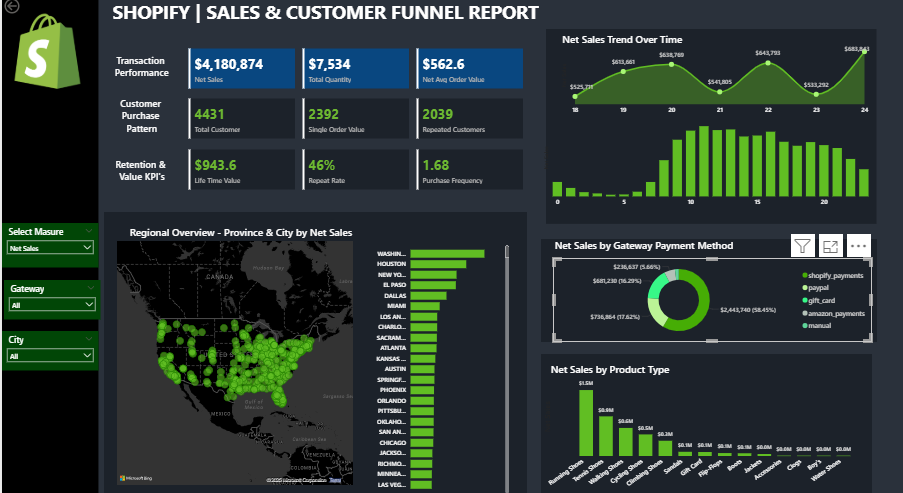

The page's visual inventory and layout, read from the dashboard file:
{"tool":"powerbi","page":{"name":"Shopify Analysis","canvas":[1810,1000],"ordinal":0},"visuals":[{"type":"shape","box":[1078,486,672,206],"z":0},{"type":"shape","box":[0,0,192.9,1000],"z":1000},{"type":"textbox","box":[216.5,0,872,76.8],"z":2000},{"type":"shape","box":[204.7,431.1,846.5,568.9],"z":3000},{"type":"cardVisual","fields":{"Data":["shopify_sales.Net Sales","shopify_sales.Total Quantity","shopify_sales.Net Avg Order Value"]},"box":[368.1,100.4,679.1,90.6],"z":4000},{"type":"card","fields":{"Values":["shopify_sales.Transaction Pref"]},"box":[192.9,88.6,175.2,102.4],"z":5000},{"type":"cardVisual","fields":{"Data":["shopify_sales.Total Customer","shopify_sales.Single Order Value","shopify_sales.Repeated Customers"]},"box":[368.1,200.8,679.1,90.6],"z":6000},{"type":"card","fields":{"Values":["shopify_sales.Customer Purchase Pattern"]},"box":[204.7,181.1,151.6,106.3],"z":7000},{"type":"cardVisual","fields":{"Data":["shopify_sales.Life Time Value","shopify_sales.Repeat Rate","shopify_sales.Purchase Frequency"]},"box":[368.1,301.2,679.1,90.6],"z":8000},{"type":"card","fields":{"Values":["shopify_sales.Retention & Value KPI's"]},"box":[204.7,293.3,151.6,106.3],"z":9000},{"type":"slicer","fields":{"Values":["Select Masure.Select Masure"]},"box":[0,454.7,192.9,88.6],"z":10000},{"type":"map","fields":{"Category":["shopify_sales.Location"]},"box":[226.4,486.2,482.3,498],"z":11000},{"type":"clusteredBarChart","fields":{"Y":["shopify_sales.Net Sales"],"Category":["shopify_sales.CITY"]},"box":[732.3,486.2,287.4,513.8],"z":12000},{"type":"shape","box":[1088.6,66.9,661.4,389.8],"z":13000},{"type":"card","fields":{"Values":["shopify_sales.Gateway Title"]},"box":[1020,468,528,62],"z":14000},{"type":"areaChart","fields":{"Y":["shopify_sales.Net Sales"],"Category":["shopify_sales.Invoice Date.Variation.Date Hierarchy.Day"]},"box":[1114.2,88.6,626,157.5],"z":15000},{"type":"clusteredColumnChart","fields":{"Y":["shopify_sales.Net Sales"],"Category":["shopify_sales.Hour"]},"box":[1078.7,232.3,661.4,198.8],"z":16000},{"type":"card","fields":{"Values":["shopify_sales.Trend Title"]},"box":[1088.6,51.2,305.1,72.8],"z":17000},{"type":"donutChart","fields":{"Y":["shopify_sales.Net Sales"],"Category":["shopify_sales.Gateway"]},"box":[1102,524,638,168],"z":18000},{"type":"card","fields":{"Values":["shopify_sales.Map Title"]},"box":[214.7,441.1,527.6,63],"z":19000},{"type":"shape","box":[1078,716,662,284],"z":20000},{"type":"columnChart","fields":{"Y":["shopify_sales.Net Sales"],"Category":["shopify_sales.Product Type"]},"box":[1078,748,640,252],"z":21000},{"type":"card","fields":{"Values":["shopify_sales.Product Title"]},"box":[1078,716,276,62],"z":22000},{"type":"image","box":[0,29.5,181.1,161.4],"z":22001},{"type":"slicer","fields":{"Values":["shopify_sales.Gateway"]},"box":[3.9,568.9,192.9,78.7],"z":22002},{"type":"slicer","fields":{"Values":["shopify_sales.Billing Address Province"]},"box":[0,669.3,192.9,78.7],"z":22003},{"type":"actionButton","box":[0,0,100,40],"z":22004}]}

Visuals, with their boxes in screenshot pixels (x1, y1, x2, y2), scaled from the page's 1810x1000 canvas onto the 903x493 screenshot:
shape: (left=538, top=240, right=873, bottom=341)
shape: (left=0, top=0, right=96, bottom=492)
textbox: (left=108, top=0, right=543, bottom=38)
shape: (left=102, top=213, right=524, bottom=492)
cardVisual - shopify_sales.Net Sales x shopify_sales.Total Quantity: (left=184, top=49, right=522, bottom=94)
card - shopify_sales.Transaction Pref: (left=96, top=44, right=184, bottom=94)
cardVisual - shopify_sales.Total Customer x shopify_sales.Single Order Value: (left=184, top=99, right=522, bottom=144)
card - shopify_sales.Customer Purchase Pattern: (left=102, top=89, right=178, bottom=142)
cardVisual - shopify_sales.Life Time Value x shopify_sales.Repeat Rate: (left=184, top=148, right=522, bottom=193)
card - shopify_sales.Retention & Value KPI's: (left=102, top=145, right=178, bottom=197)
slicer - Select Masure.Select Masure: (left=0, top=224, right=96, bottom=268)
map - shopify_sales.Location: (left=113, top=240, right=354, bottom=485)
clusteredBarChart - shopify_sales.Net Sales x shopify_sales.CITY: (left=365, top=240, right=509, bottom=492)
shape: (left=543, top=33, right=873, bottom=225)
card - shopify_sales.Gateway Title: (left=509, top=231, right=772, bottom=261)
areaChart - shopify_sales.Net Sales x shopify_sales.Invoice Date.Variation.Date Hierarchy.Day: (left=556, top=44, right=868, bottom=121)
clusteredColumnChart - shopify_sales.Net Sales x shopify_sales.Hour: (left=538, top=115, right=868, bottom=213)
card - shopify_sales.Trend Title: (left=543, top=25, right=695, bottom=61)
donutChart - shopify_sales.Net Sales x shopify_sales.Gateway: (left=550, top=258, right=868, bottom=341)
card - shopify_sales.Map Title: (left=107, top=217, right=370, bottom=249)
shape: (left=538, top=353, right=868, bottom=492)
columnChart - shopify_sales.Net Sales x shopify_sales.Product Type: (left=538, top=369, right=857, bottom=492)
card - shopify_sales.Product Title: (left=538, top=353, right=676, bottom=384)
image: (left=0, top=15, right=90, bottom=94)
slicer - shopify_sales.Gateway: (left=2, top=280, right=98, bottom=319)
slicer - shopify_sales.Billing Address Province: (left=0, top=330, right=96, bottom=369)
actionButton: (left=0, top=0, right=50, bottom=20)
